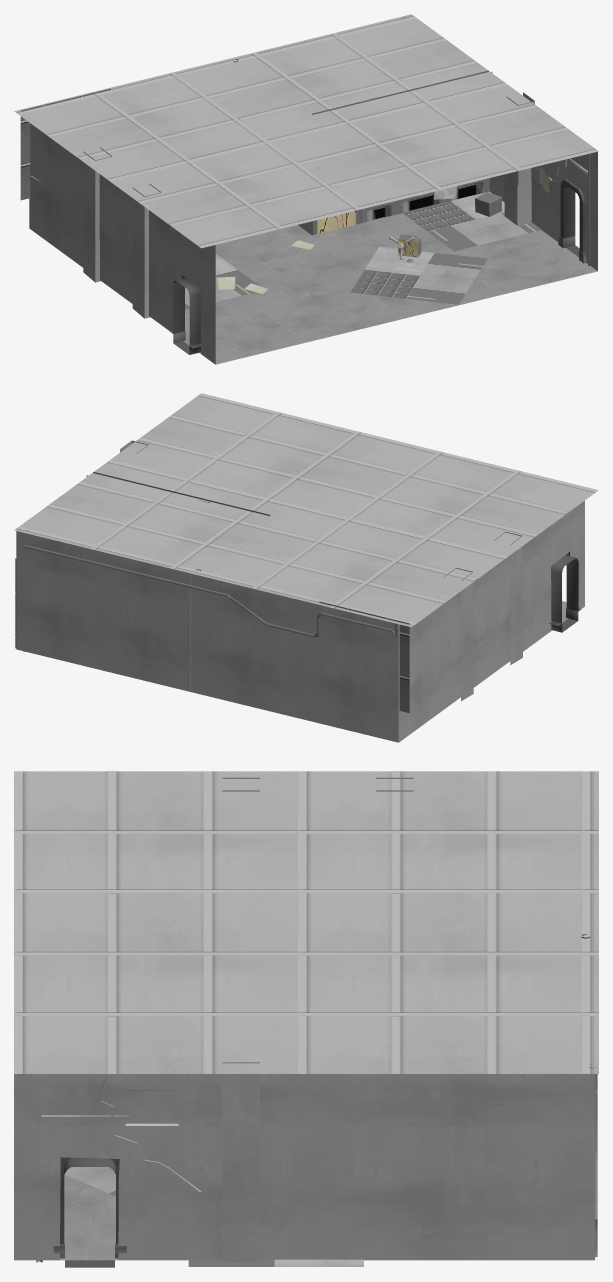
Rendered from MSH_QuestStandard_L3_R2_optimized.fbx.
The picture shows the model from 3 angles, top to bottom: view 1: azimuth 30°, elevation 25°; view 2: azimuth 150°, elevation 25°; view 3: azimuth 270°, elevation 25°; orthographic projection. The views are drawn at different scales.
Visible parts, largest first — view 1: lightmap4, lightmap0, lightmap3, MSH_QuestStandard_L3_R2_decals, MSH_QuestStandard_L3_R2_decals_02, lightmap1; view 2: lightmap4, lightmap3, lightmap0, lightmap1, MSH_QuestStandard_L3_R2_decals; view 3: lightmap4, lightmap3, lightmap0, MSH_QuestStandard_L3_R2_decals, lightmap1.
Part boxes in pixels (<box>): lightmap4: <box>14,14,598,318</box>; lightmap0: <box>170,179,597,364</box>; lightmap3: <box>29,70,597,364</box>; MSH_QuestStandard_L3_R2_decals: <box>20,88,541,309</box>; MSH_QuestStandard_L3_R2_decals_02: <box>217,167,549,293</box>; lightmap1: <box>233,16,590,265</box>; lightmap4: <box>14,393,598,701</box>; lightmap3: <box>16,472,584,742</box>; lightmap0: <box>549,552,581,632</box>; lightmap1: <box>23,475,397,651</box>; MSH_QuestStandard_L3_R2_decals: <box>15,558,409,713</box>; lightmap4: <box>14,771,598,1262</box>; lightmap3: <box>14,1074,594,1260</box>; lightmap0: <box>53,1157,126,1267</box>; MSH_QuestStandard_L3_R2_decals: <box>64,1167,363,1266</box>; lightmap1: <box>36,934,597,1262</box>.
Bounding box in the file's own units: 20.83 × 6.07 × 16.63.
